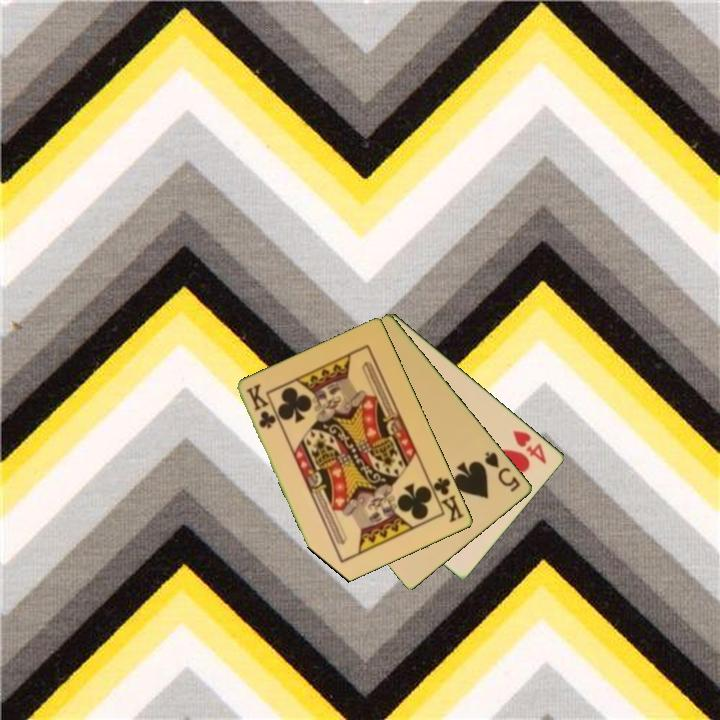4h: (509, 426, 550, 467)
5s: (481, 449, 523, 495)
Kc: (426, 474, 467, 526), (243, 381, 279, 432)
